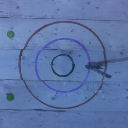Axe Tip: (91, 65, 104, 69)
